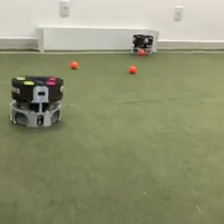ball: (69, 59, 79, 69), (128, 64, 137, 73), (138, 48, 145, 56)
goal: (36, 25, 159, 54)
robot: (7, 71, 65, 130), (131, 32, 154, 55)
